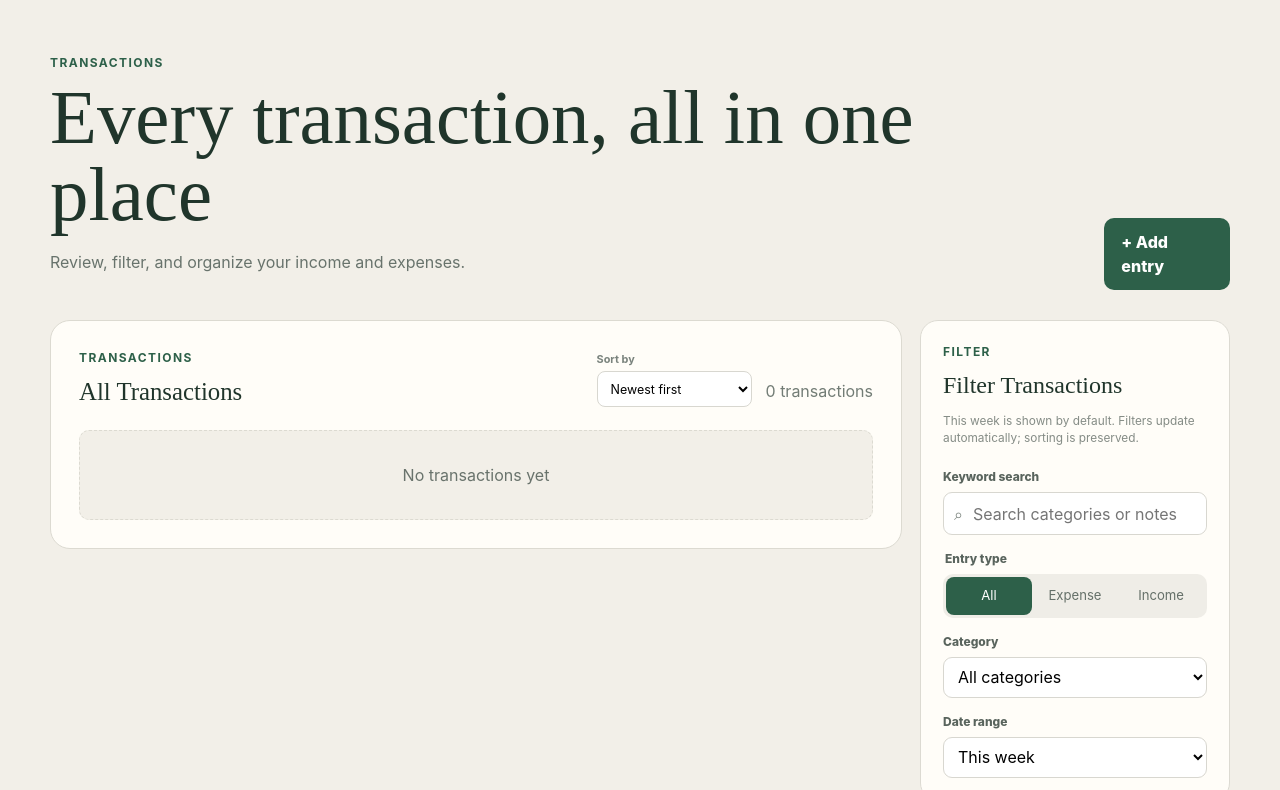
Test: RecordsView › 阻止开始日期晚于结束日期的筛选
Step 1. Select "Custom dates" in the dropdown with id "filter-date-mode" → (1075, 757), box [943,737,1207,778]
(page scrolled)
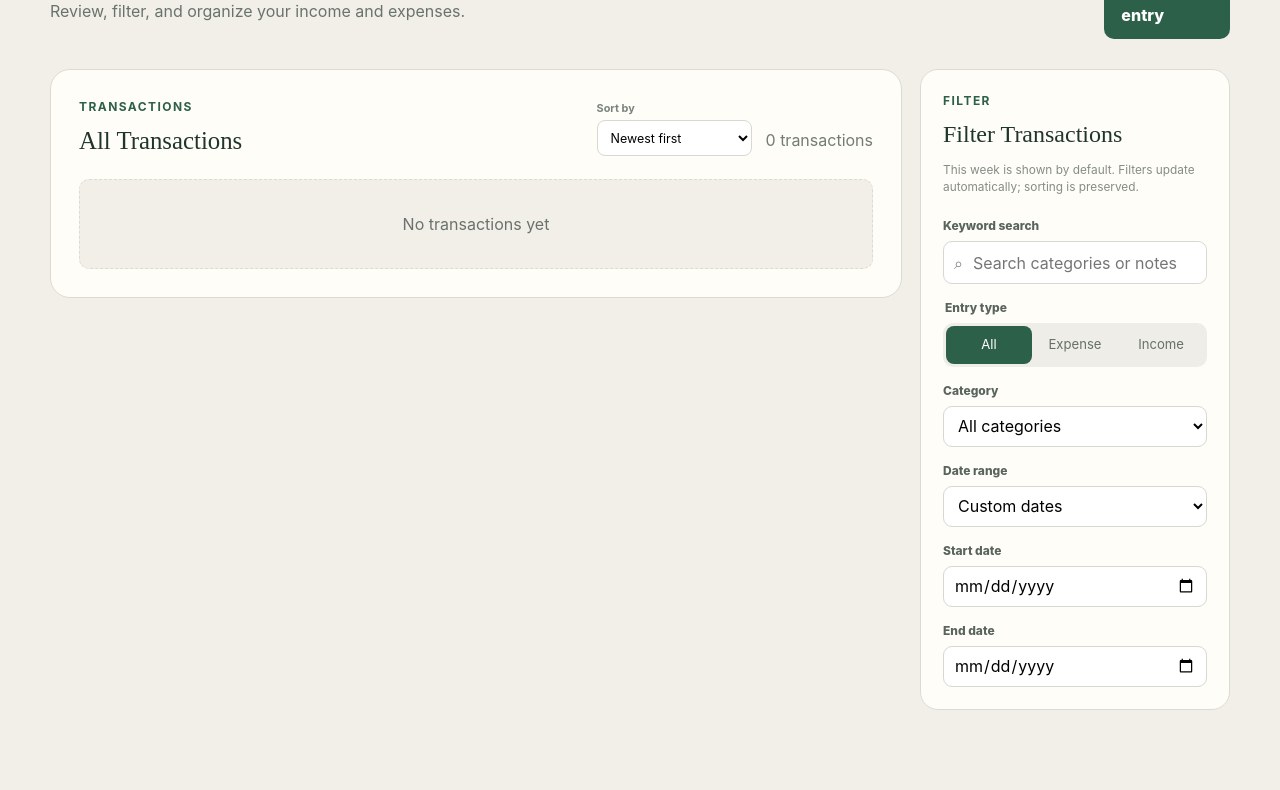
Step 2. Type "2026-08-20" into the date field with id "filter-start-date" → (1075, 586), box [943,566,1207,607]
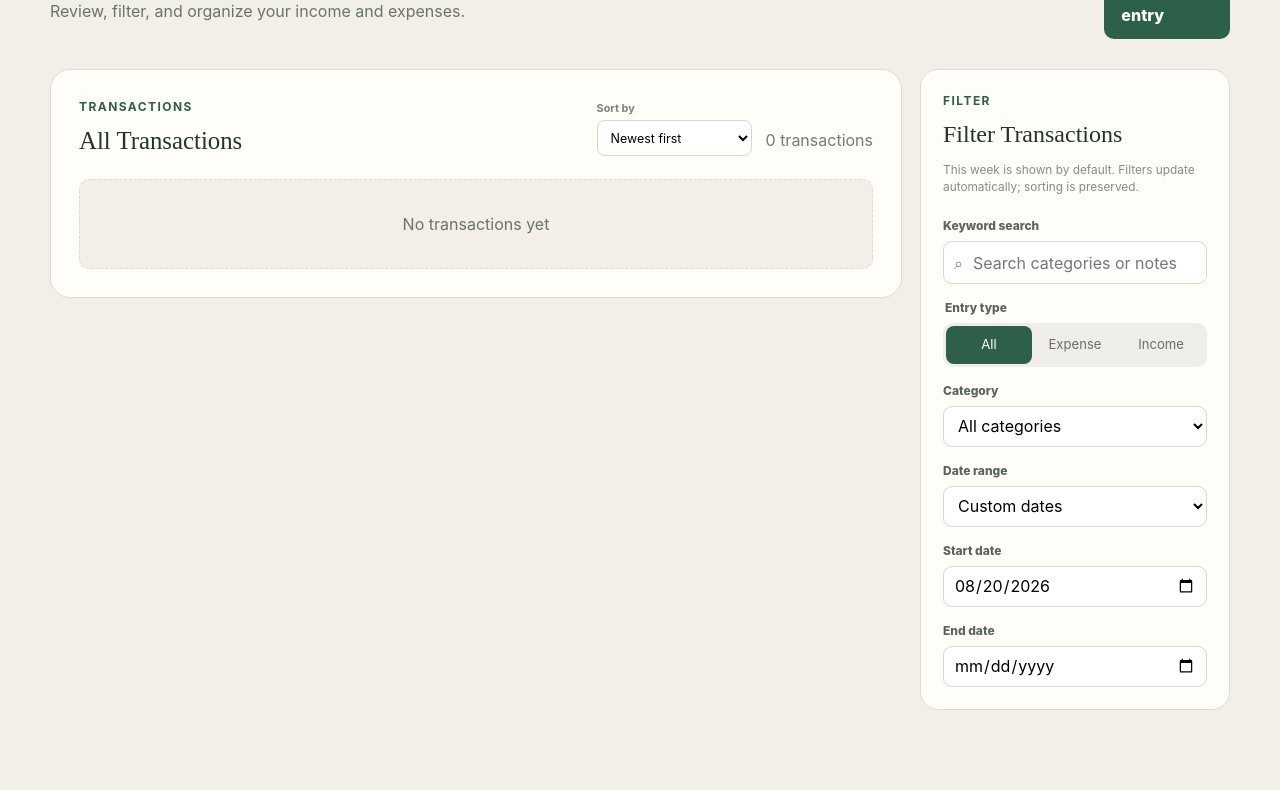
Step 3. Type "2026-08-01" into the date field with id "filter-end-date" → (1075, 666), box [943,646,1207,687]
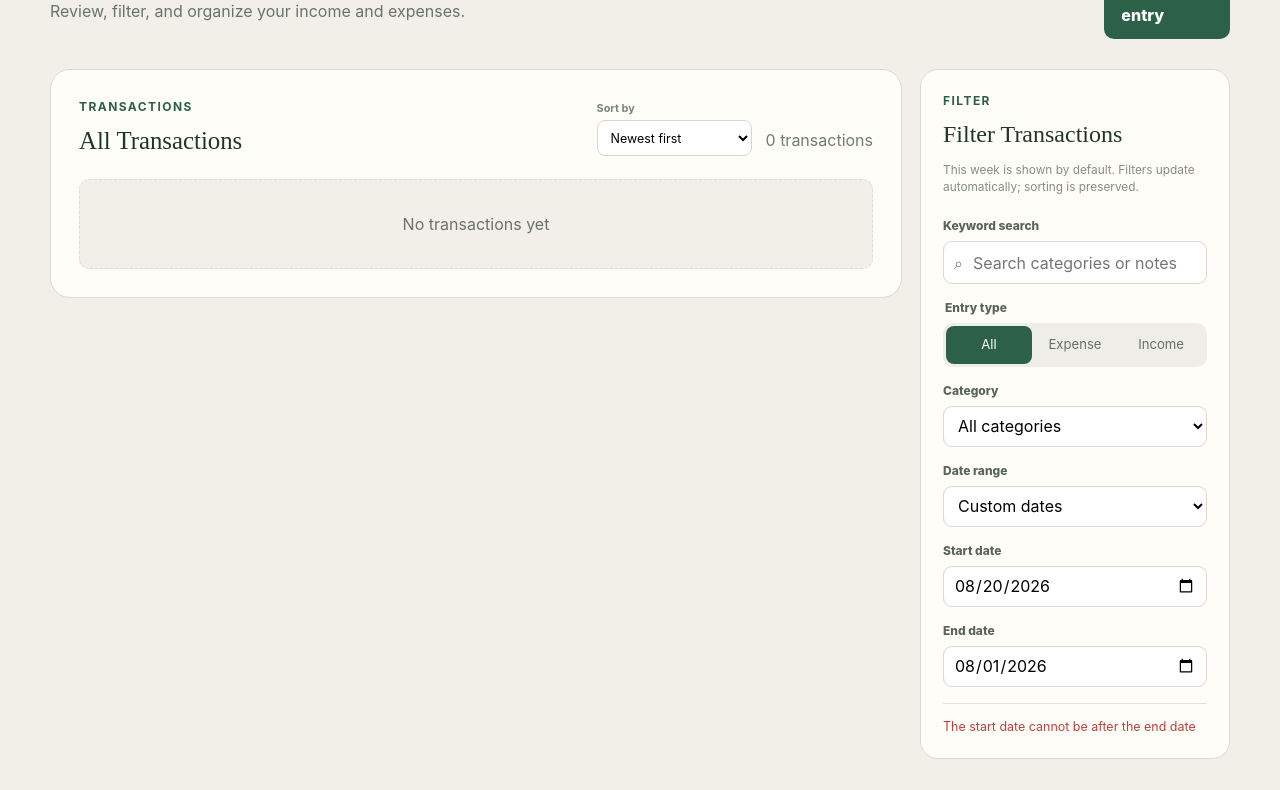
Now the text "The start date cannot be after the end date" is shown, box [943,703,1207,736]
